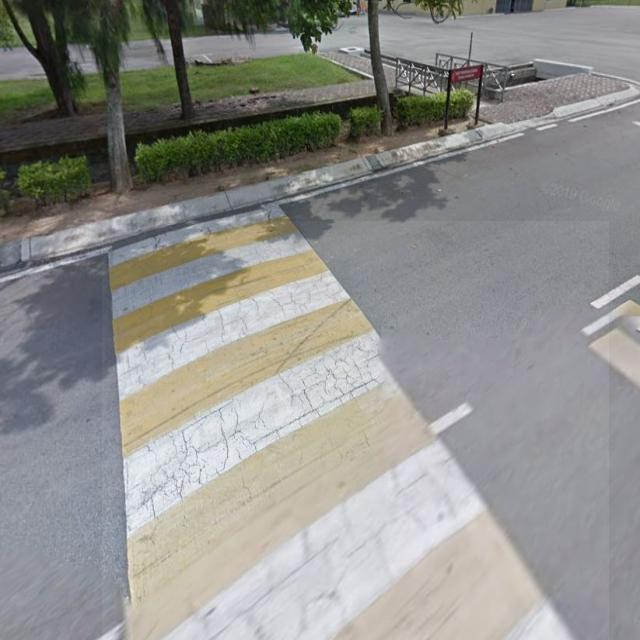speed-bump: (102, 221, 609, 640)
